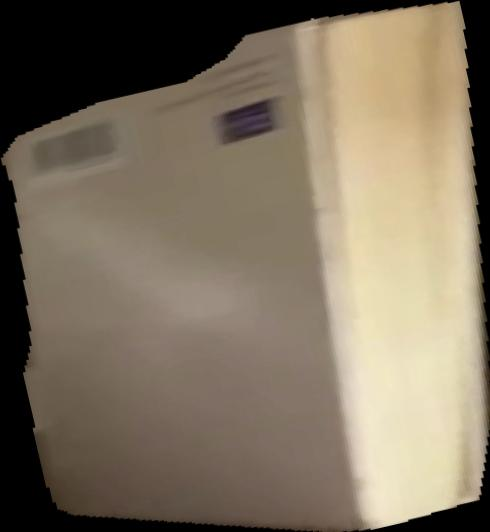backward: (1, 1, 490, 532)
